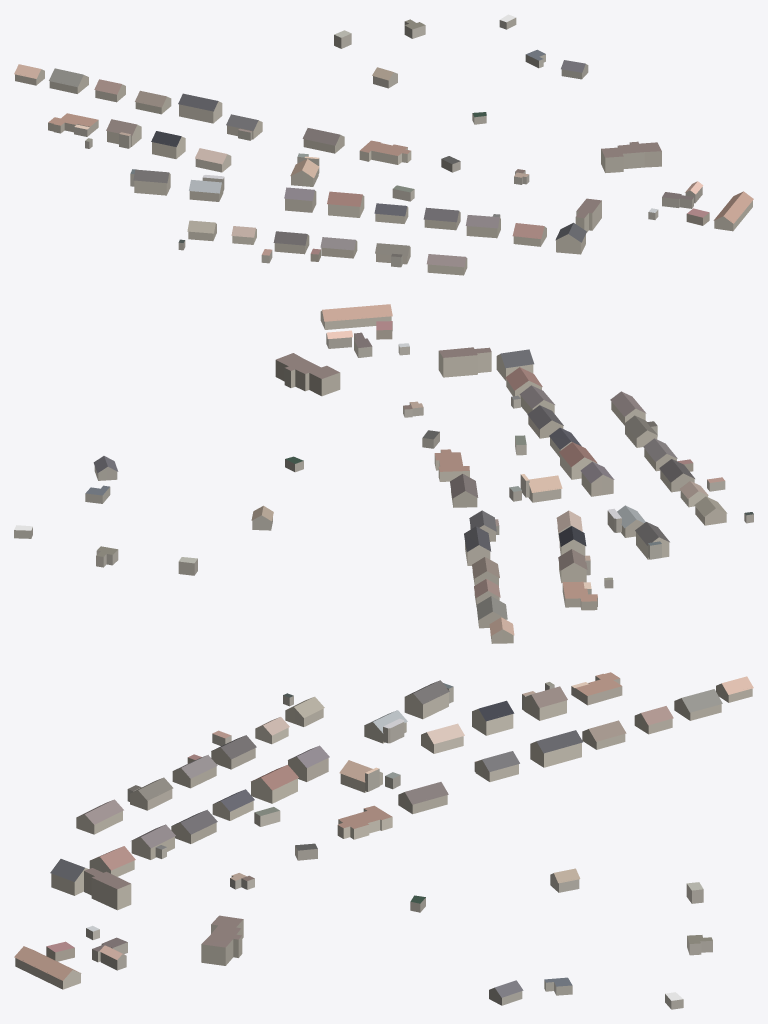
3 views of the same model, one above another, from view 1: azimuth 30°, elevation 25°; view 2: azimuth 150°, elevation 25°; view 3: azimuth 270°, elevation 25° (orthographic). The views are drawn at different scales.
Parts seen in each view (by area): view 1: tuile; view 2: tuile; view 3: tuile.
Boxes of the visible parts, <box> form: tuile: <box>14,14,753,275</box>; tuile: <box>14,304,753,643</box>; tuile: <box>14,672,753,1009</box>.
Bounding box in the file's own units: 251 × 24.74 × 269.
